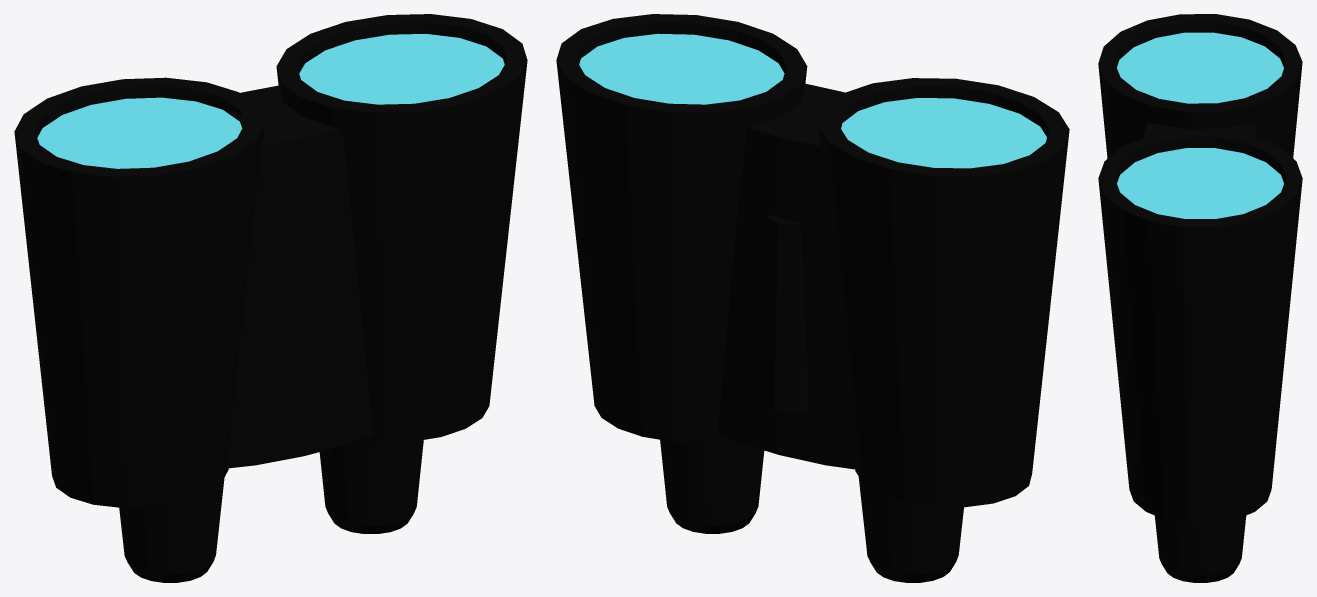
Rendered from binocular.fbx.
3 views of the same model, side by side, from view 1: azimuth 30°, elevation 25°; view 2: azimuth 150°, elevation 25°; view 3: azimuth 270°, elevation 25° (orthographic). The views are drawn at different scales.
Visible parts, largest first — view 1: binocular; view 2: binocular; view 3: binocular.
Boxes of the visible parts, bbox=[...] form: binocular: bbox=[14, 14, 527, 582]; binocular: bbox=[556, 14, 1069, 582]; binocular: bbox=[1098, 14, 1302, 582].
Size of the model in its own units: 46.22 by 40.83 by 18.73.
